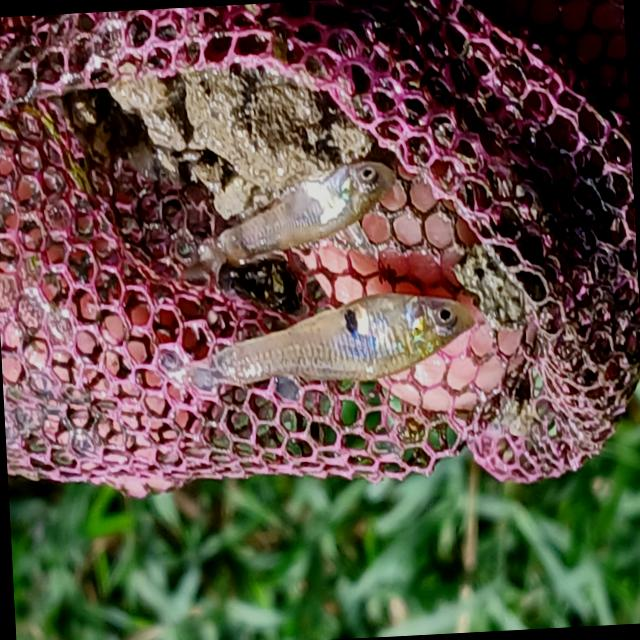Sivrisinek Baligi: (0, 0, 640, 510), (178, 289, 478, 400), (169, 158, 400, 267)
